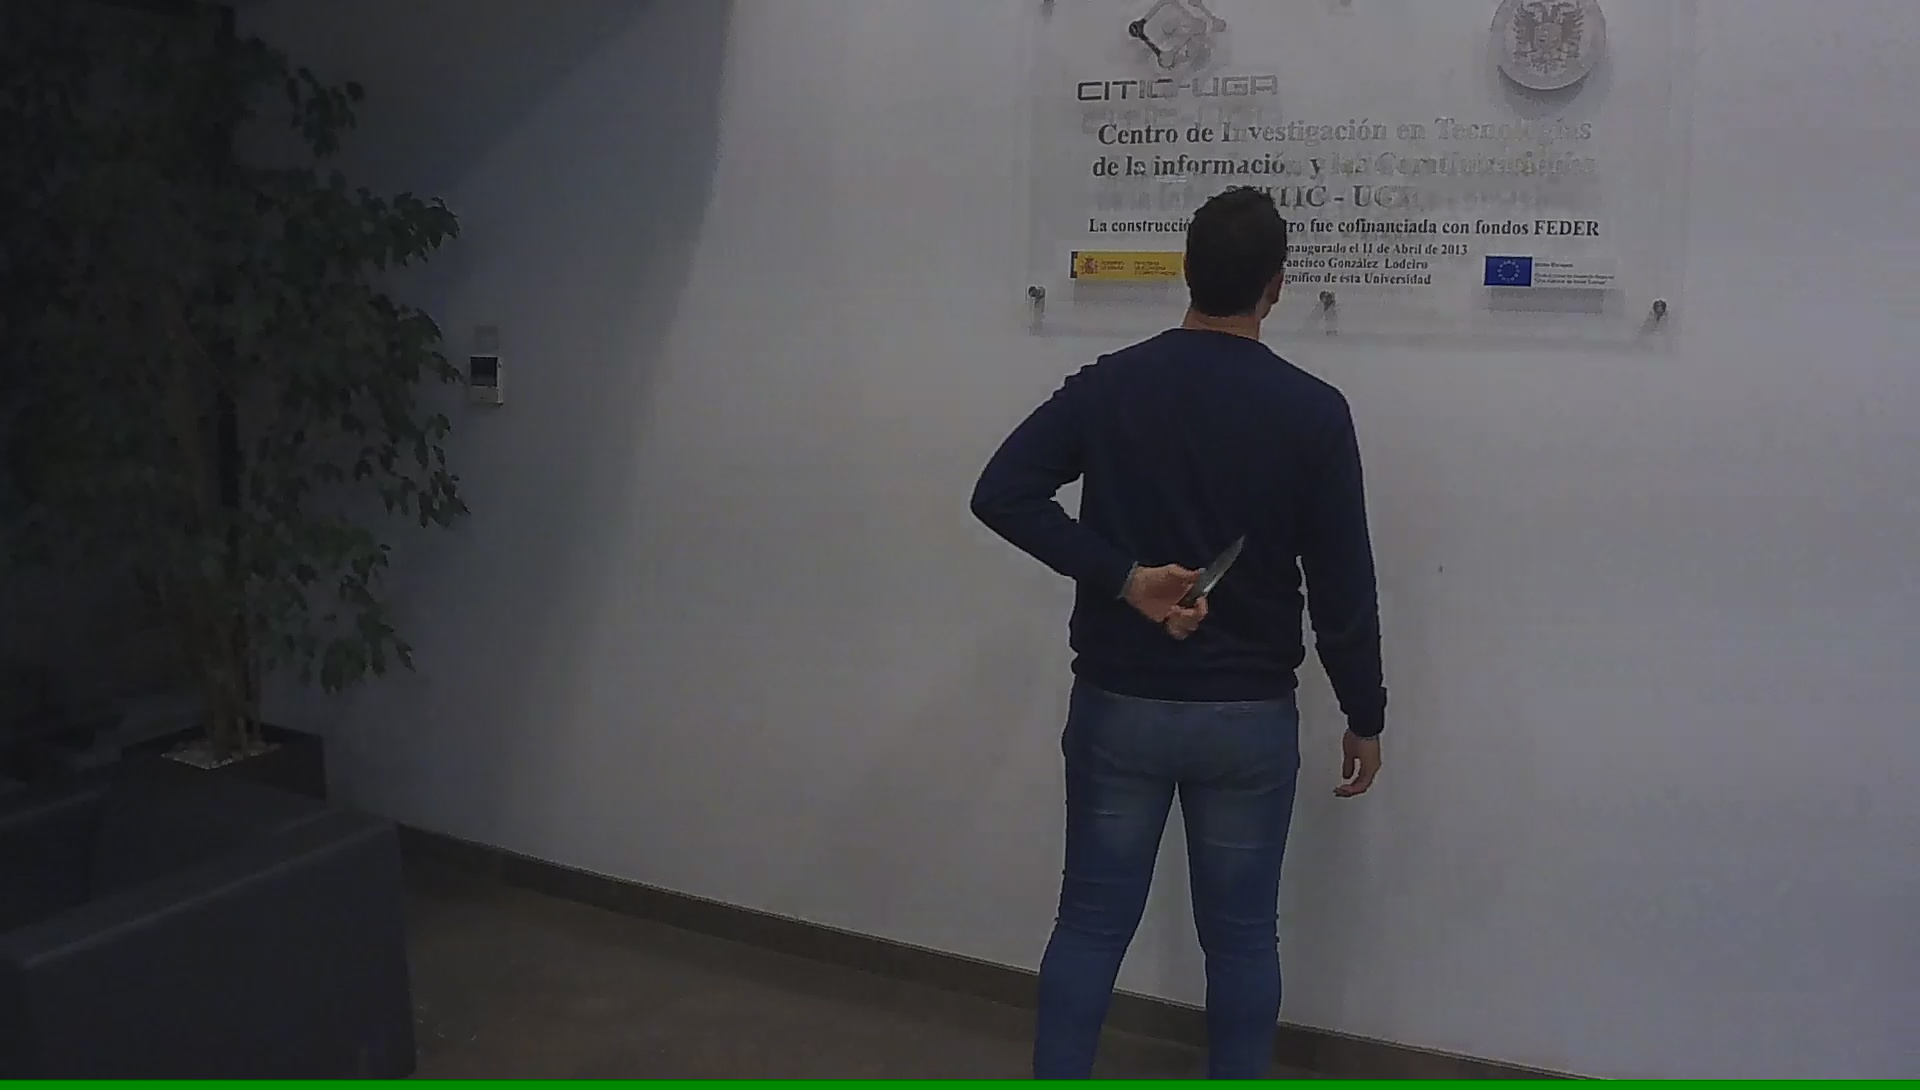knife: (1158, 523, 1255, 634)
